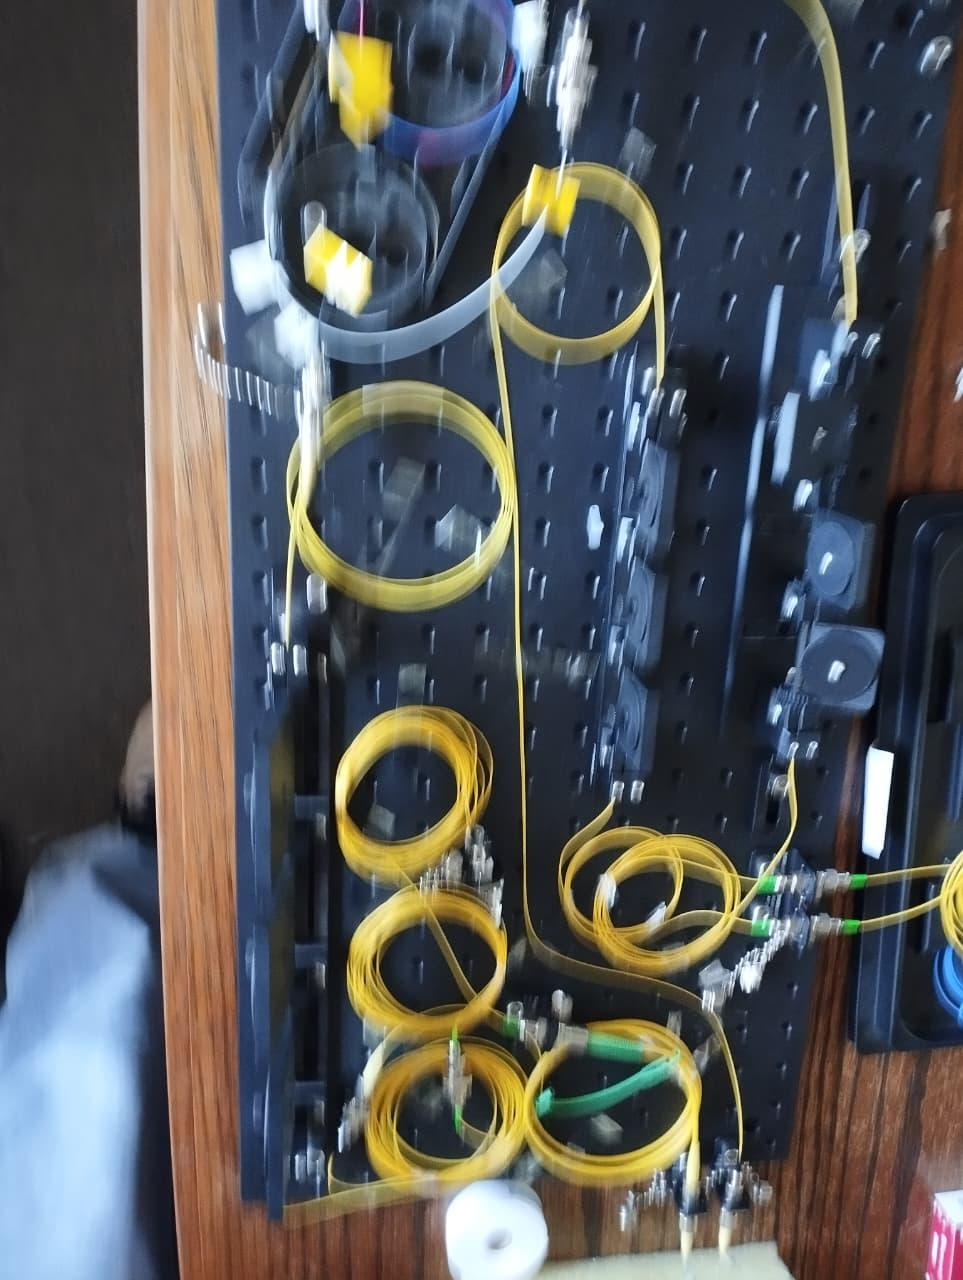fiber_cable: (248, 357, 523, 620), (300, 692, 518, 872), (345, 885, 522, 1035)
paddle_polarization_controller: (227, 570, 376, 1220), (749, 259, 893, 794), (585, 334, 716, 825)
